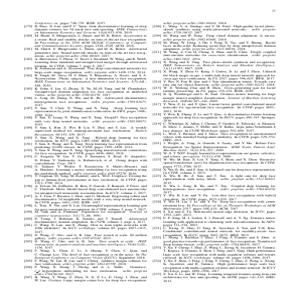text: (151, 17, 280, 286), (21, 19, 149, 284)
